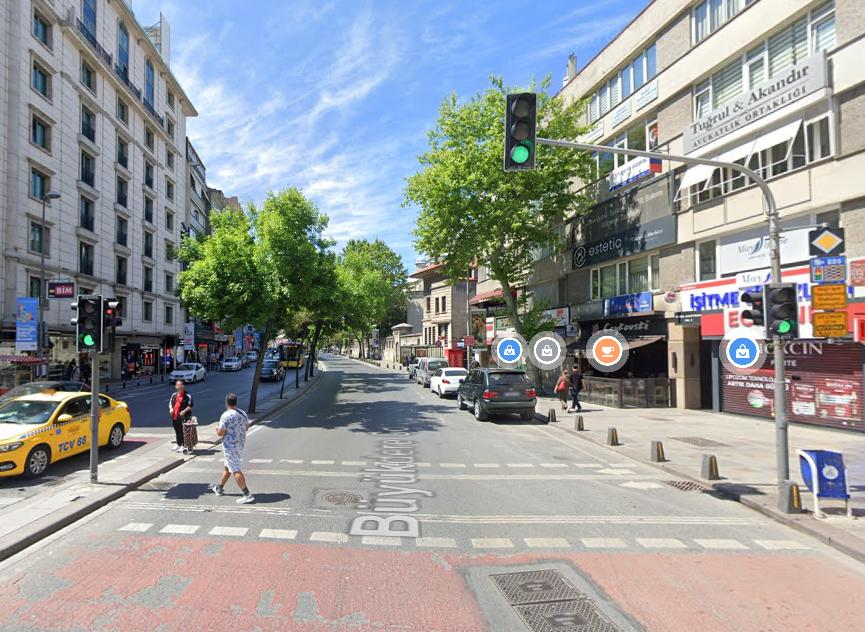greenlight: (507, 91, 536, 170), (765, 283, 797, 342), (78, 293, 105, 352)
